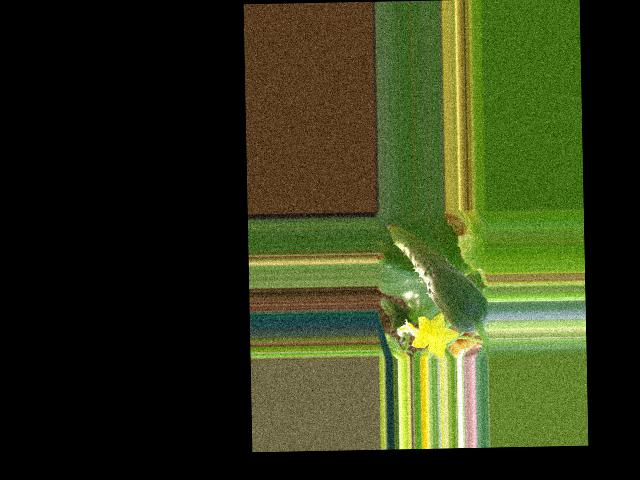cucumber: (386, 222, 488, 334)
